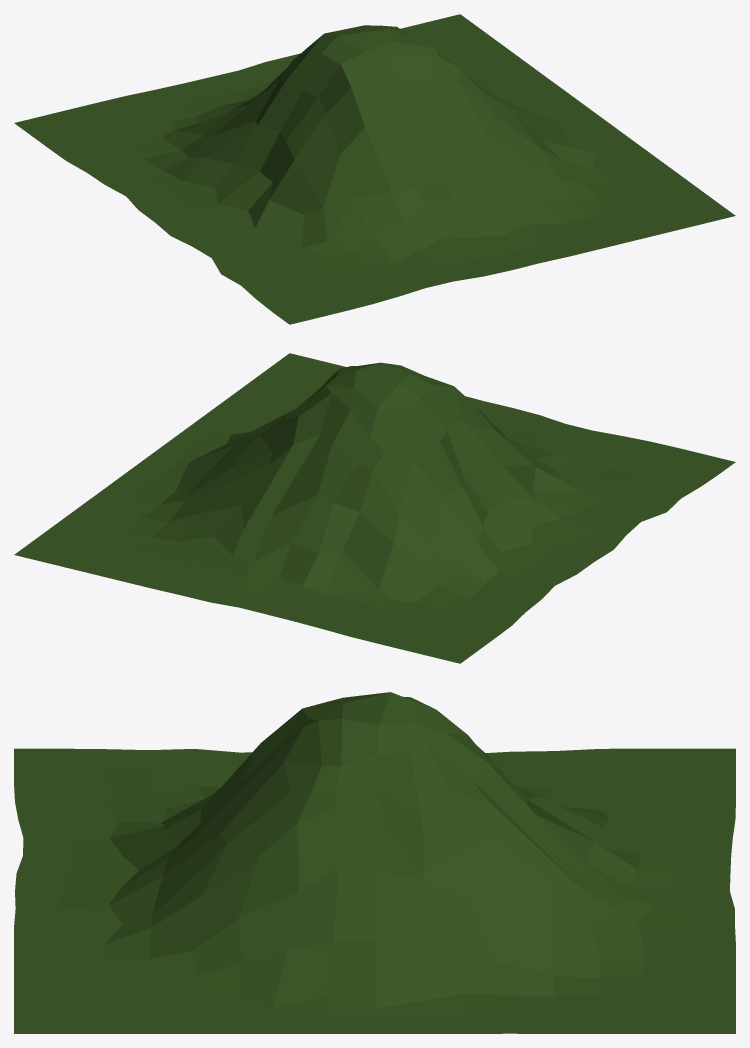
File: MontanhaVerde.fbx
3 renders of one model, top to bottom at view 1: azimuth 30°, elevation 25°; view 2: azimuth 150°, elevation 25°; view 3: azimuth 270°, elevation 25°, orthographic. The views are drawn at different scales.
Parts seen in each view (by area): view 1: Plane.001; view 2: Plane.001; view 3: Plane.001.
Boxes of the visible parts, x1,y1,x2,y2 form: Plane.001: (14, 14, 735, 324); Plane.001: (14, 353, 735, 663); Plane.001: (14, 692, 735, 1033).
Bounding box in the file's own units: 3779 × 1107 × 4043.
